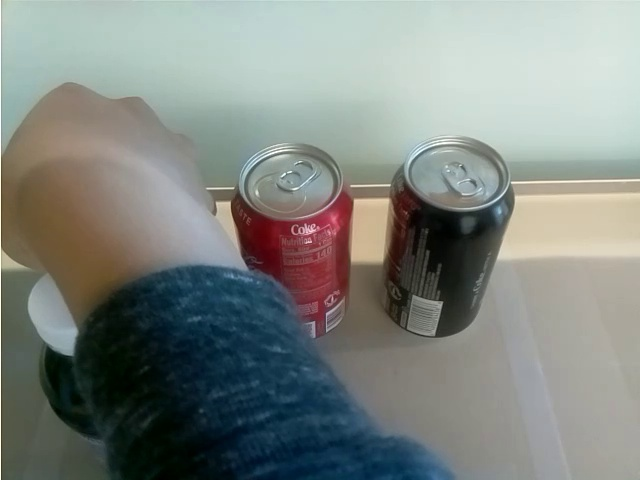cocacola: (230, 140, 353, 347)
cocacola-zero: (374, 132, 517, 340)
hand: (1, 80, 215, 267)
juice: (20, 274, 108, 475)
